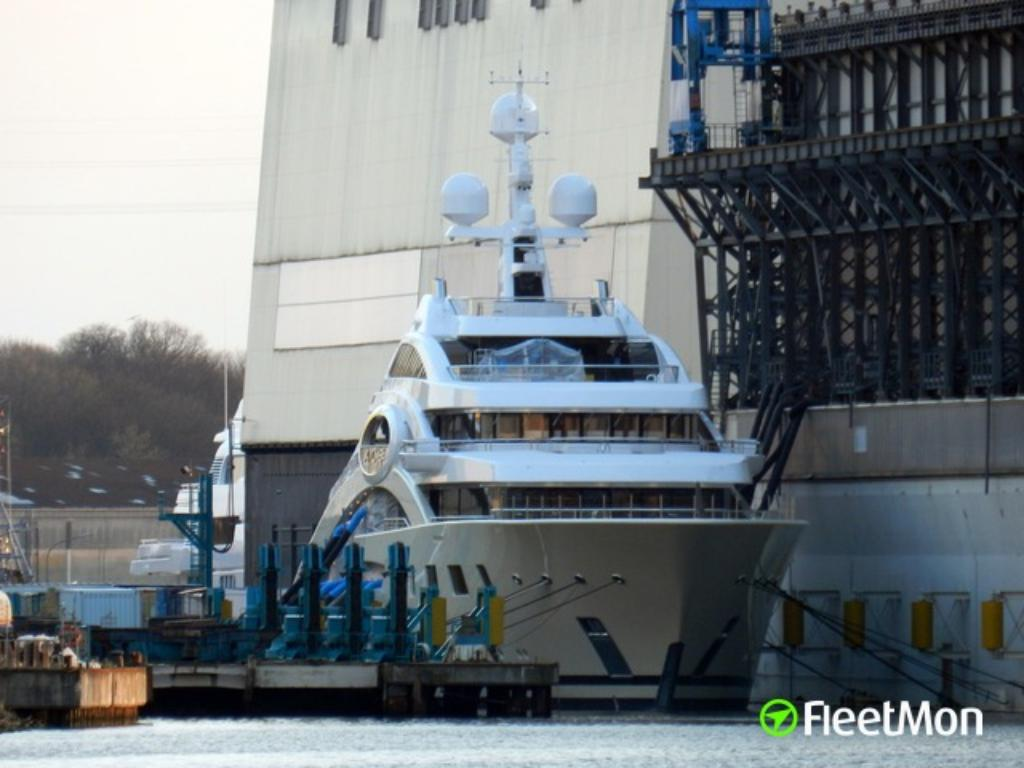PassengerShip: (288, 70, 812, 714)
